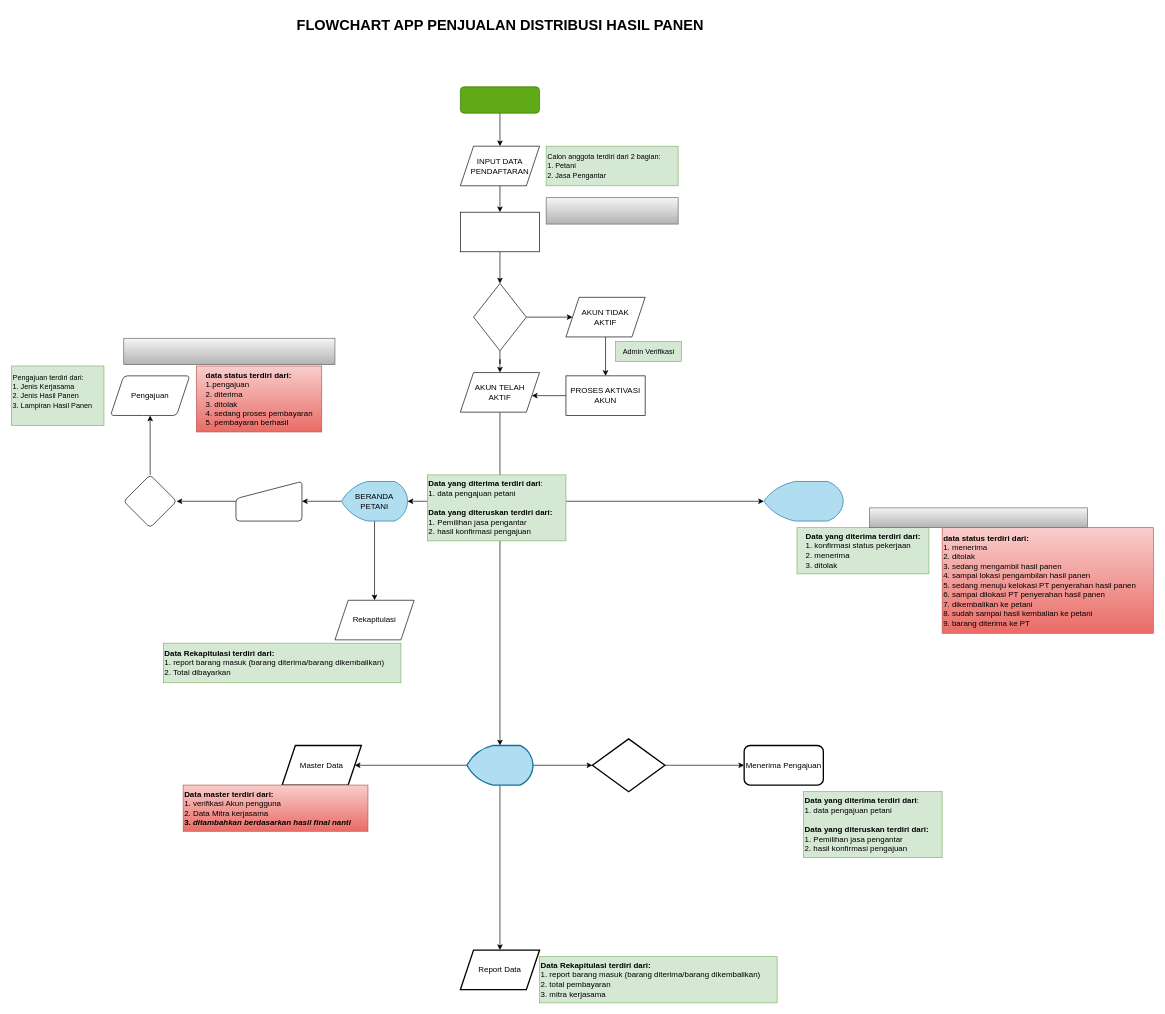
The diagram is 1165 pixels wide and 1014 high, and some of its shapes have lost their labels. Each missing label, with the centre of its shape:
BERANDA ADMIN: point (499, 764)
BERANDA JASA PENGANTAR: point (803, 501)
DATA DISTRIBUSI: point (150, 501)
Data transaksi: point (628, 765)
Dokumen syarat pendaftaran sesuai ketentuan yang berlaku: point (611, 210)
Input Data: point (268, 501)
Jika diterima maka surat jalan akan dibuat oleh admin: point (978, 517)
PENDAFTARAN: point (500, 99)
Terdapat Integrasi titik Maps Petani,notifikasi WhatApss: point (229, 351)
VALIDASI AKUN: point (499, 317)
VALIDASI AKUN DIBAGI MENJADI 2: point (500, 232)
